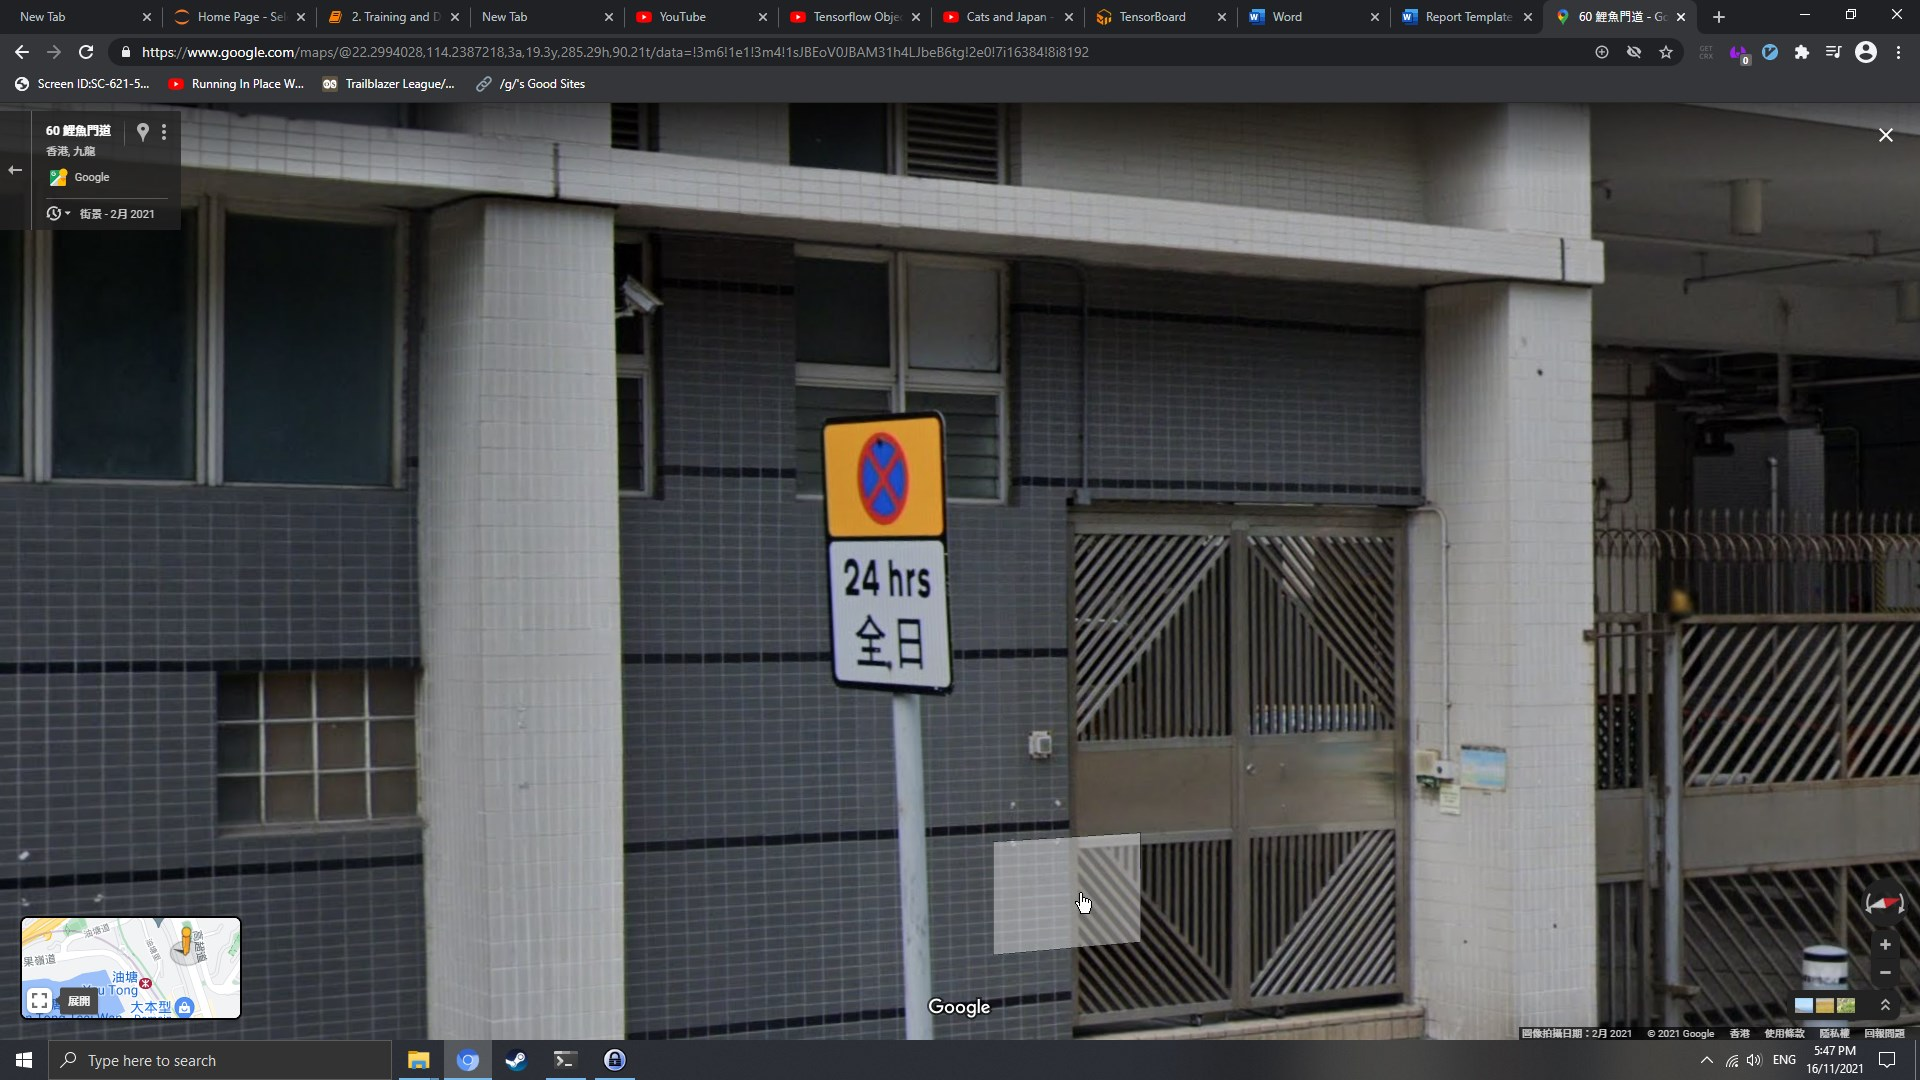NoStop: (856, 433, 910, 525)
